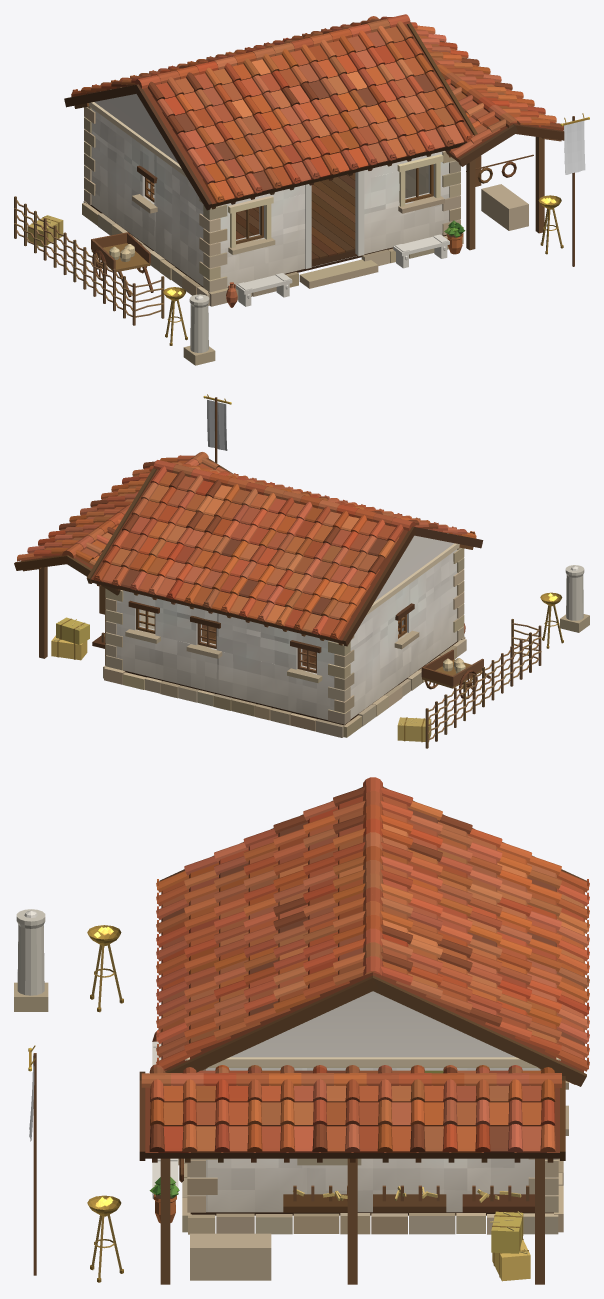
File: civ_center0.glb
The picture shows the model from 3 angles, top to bottom: view 1: azimuth 30°, elevation 25°; view 2: azimuth 150°, elevation 25°; view 3: azimuth 270°, elevation 25°; orthographic projection. The views are drawn at different scales.
Parts seen in each view (by area): view 1: House, Walls, Rooms; view 2: House, Walls, Rooms; view 3: House, Walls.
Boxes of the visible parts, left/top/right/bottom form: House: left=14, top=14, right=589, bottom=365; Walls: left=91, top=94, right=451, bottom=287; Rooms: left=153, top=165, right=428, bottom=260; House: left=14, top=394, right=589, bottom=748; Walls: left=110, top=535, right=457, bottom=719; Rooms: left=140, top=609, right=398, bottom=668; House: left=14, top=777, right=589, bottom=1284; Walls: left=190, top=991, right=555, bottom=1212.
Size of the model in its own units: 8.91 by 3.64 by 7.07.
Materials: 8 (8 with a texture image).
